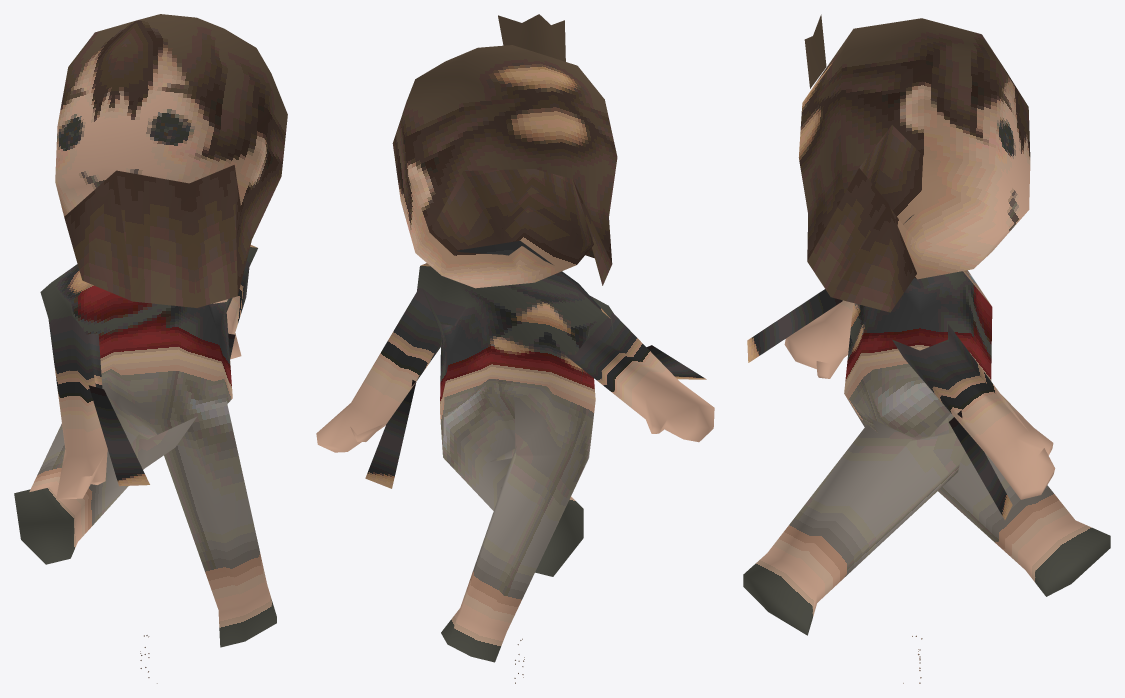
Rendered from ps2_save-icons_xenosagaep2-shion.glb.
3 views of the same model, side by side, from view 1: azimuth 30°, elevation 25°; view 2: azimuth 150°, elevation 25°; view 3: azimuth 270°, elevation 25° (orthographic). The views are drawn at different scales.
Visible parts, largest first — view 1: system.ico; view 2: system.ico; view 3: system.ico.
Part boxes in pixels (<box>): system.ico: <box>14,14,287,683</box>; system.ico: <box>316,14,714,683</box>; system.ico: <box>743,14,1110,683</box>.
Bounding box in the file's own units: 2.16 × 4.63 × 2.31.
1 material, 1 textured.
